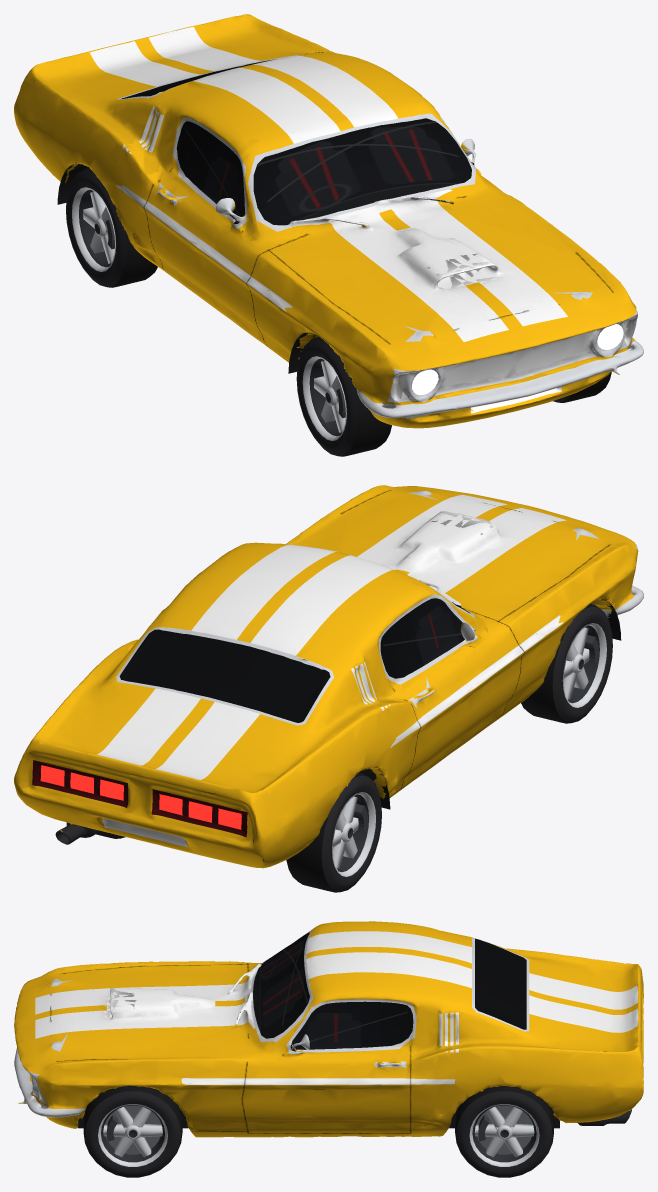
Rendered from kumasi.glb.
3 views of the same model, one above another, from view 1: azimuth 30°, elevation 25°; view 2: azimuth 150°, elevation 25°; view 3: azimuth 270°, elevation 25° (orthographic). The views are drawn at different scales.
Visible parts, largest first — view 1: body, wheel_FR, wheel_RR; view 2: body, wheel_RR, wheel_FR; view 3: body, wheel_FL, wheel_RL.
Part boxes in pixels (<box>): body: <box>14,14,643,428</box>; wheel_FR: <box>296,337,391,456</box>; wheel_RR: <box>66,168,157,287</box>; body: <box>14,485,643,868</box>; wheel_RR: <box>286,772,381,892</box>; wheel_FR: <box>521,603,612,723</box>; body: <box>14,921,643,1137</box>; wheel_FL: <box>83,1085,182,1177</box>; wheel_RL: <box>455,1086,553,1177</box>.
Bounding box in the file's own units: 2.03 × 1.55 × 4.93.
15 materials, 4 textured.
